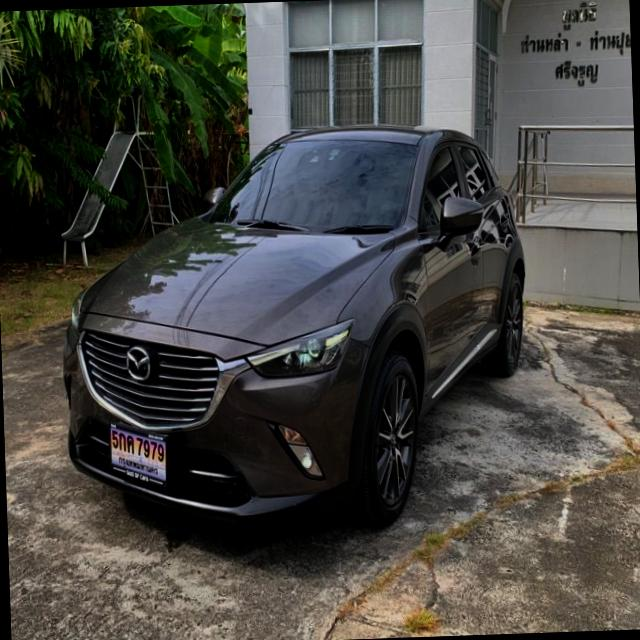license_plate: (108, 414, 172, 496)
